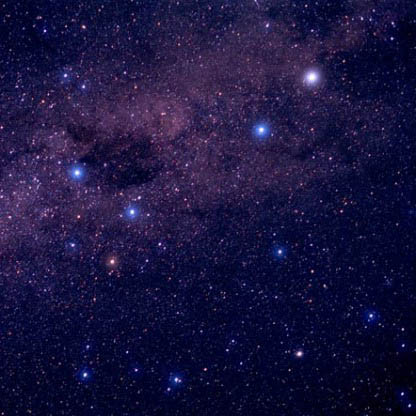Southern Cross: (62, 156, 92, 188), (99, 247, 123, 273), (60, 234, 82, 260), (118, 201, 144, 222)
